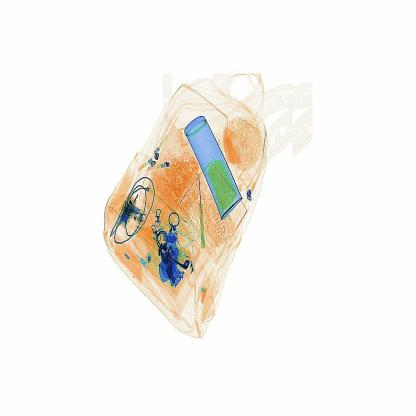wrench: (196, 171, 208, 257)
